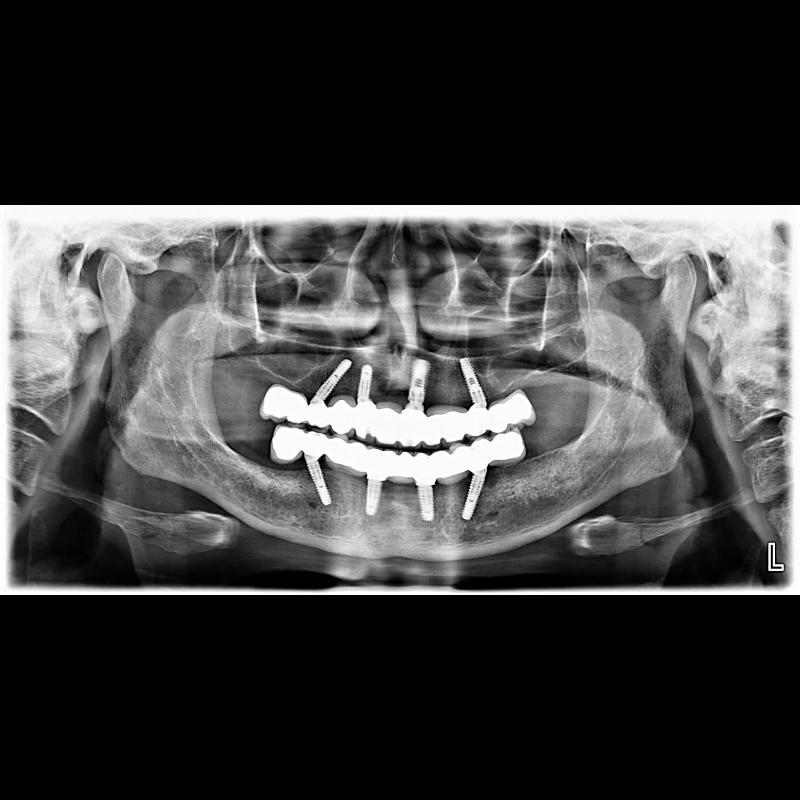osstem: (308, 354, 358, 404), (300, 456, 338, 518), (398, 355, 440, 405), (458, 357, 494, 405), (457, 475, 489, 525), (360, 479, 388, 519), (419, 482, 438, 532)
